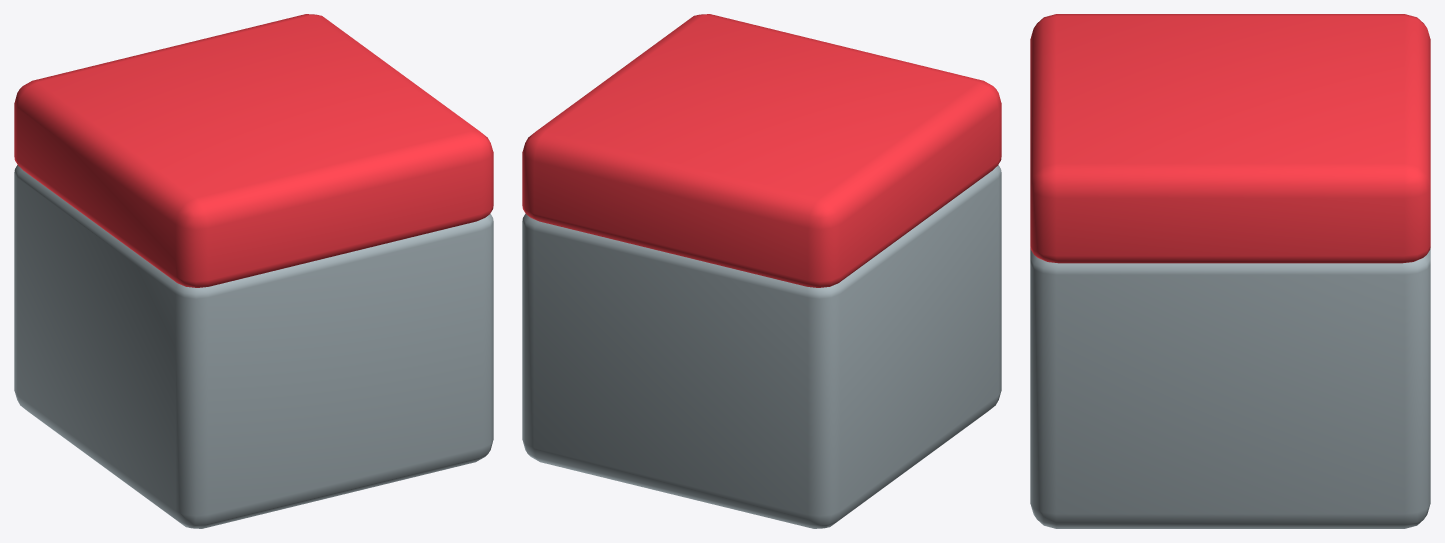
File: tileHigh_teamRed.glb
3 renders of one model, left to right at view 1: azimuth 30°, elevation 25°; view 2: azimuth 150°, elevation 25°; view 3: azimuth 270°, elevation 25°, orthographic. The views are drawn at different scales.
Parts seen in each view (by area): view 1: tileHigh_teamRed; view 2: tileHigh_teamRed; view 3: tileHigh_teamRed.
Boxes of the visible parts, left/top/right/bottom form: tileHigh_teamRed: left=14, top=14, right=493, bottom=528; tileHigh_teamRed: left=522, top=14, right=1001, bottom=528; tileHigh_teamRed: left=1030, top=14, right=1430, bottom=528.
Size of the model in its own units: 0.7 by 0.7 by 0.7.
